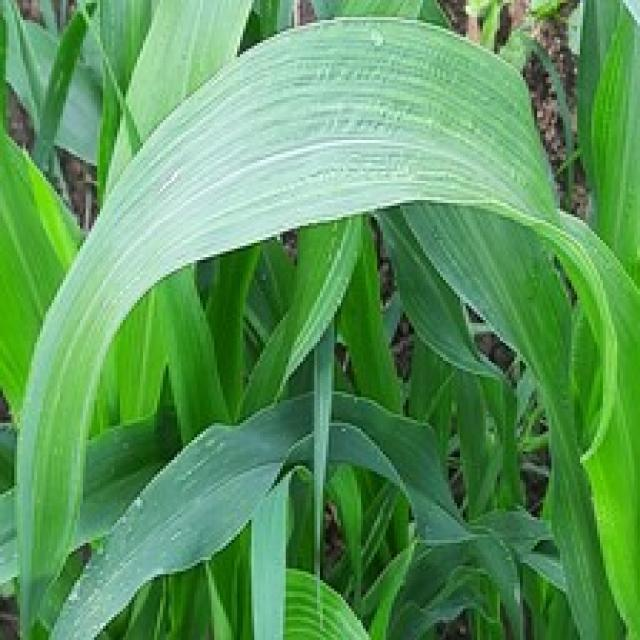Corn: (0, 0, 637, 637), (569, 0, 637, 637)
